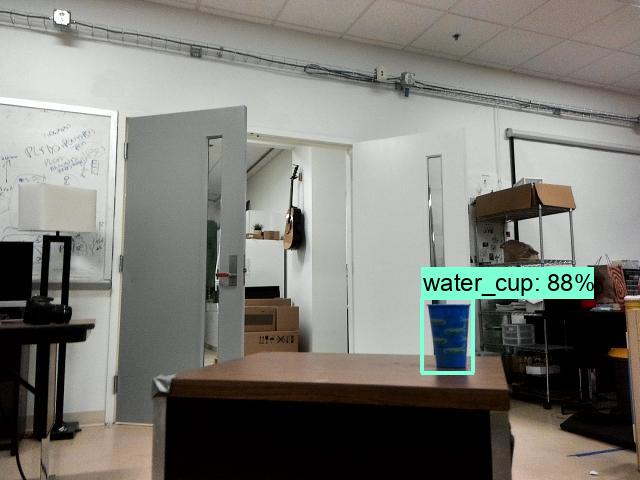water_cup: (425, 298, 472, 369)
